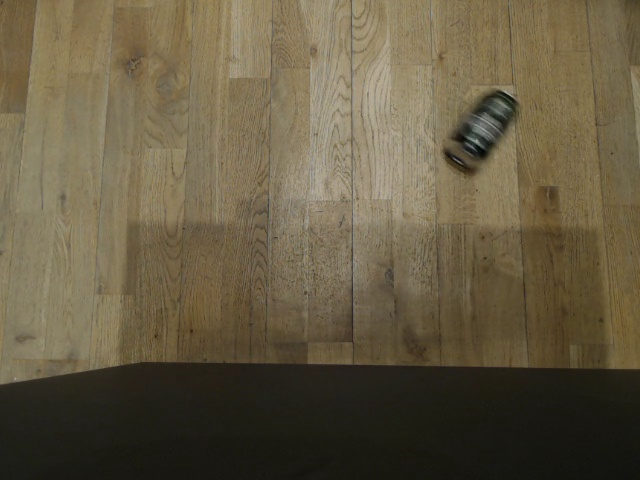beer: (440, 86, 521, 168)
